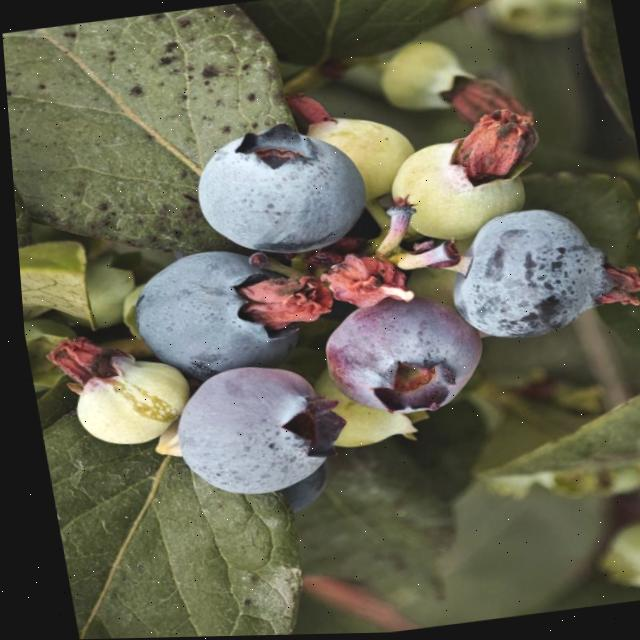RipeBlueBerry: (440, 201, 620, 355), (117, 244, 310, 381), (180, 121, 364, 262), (153, 365, 327, 500)
Semi-RipeBlueBerry: (312, 291, 478, 426)
UnripeBlueBerry: (378, 130, 534, 247), (59, 346, 192, 453)
